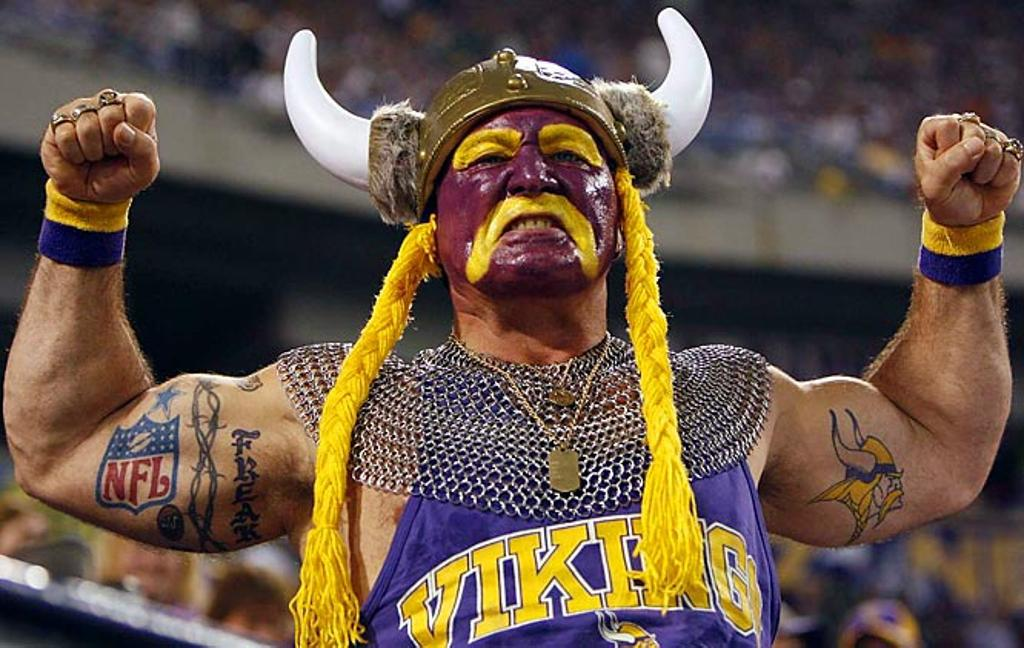face: (435, 109, 615, 289)
